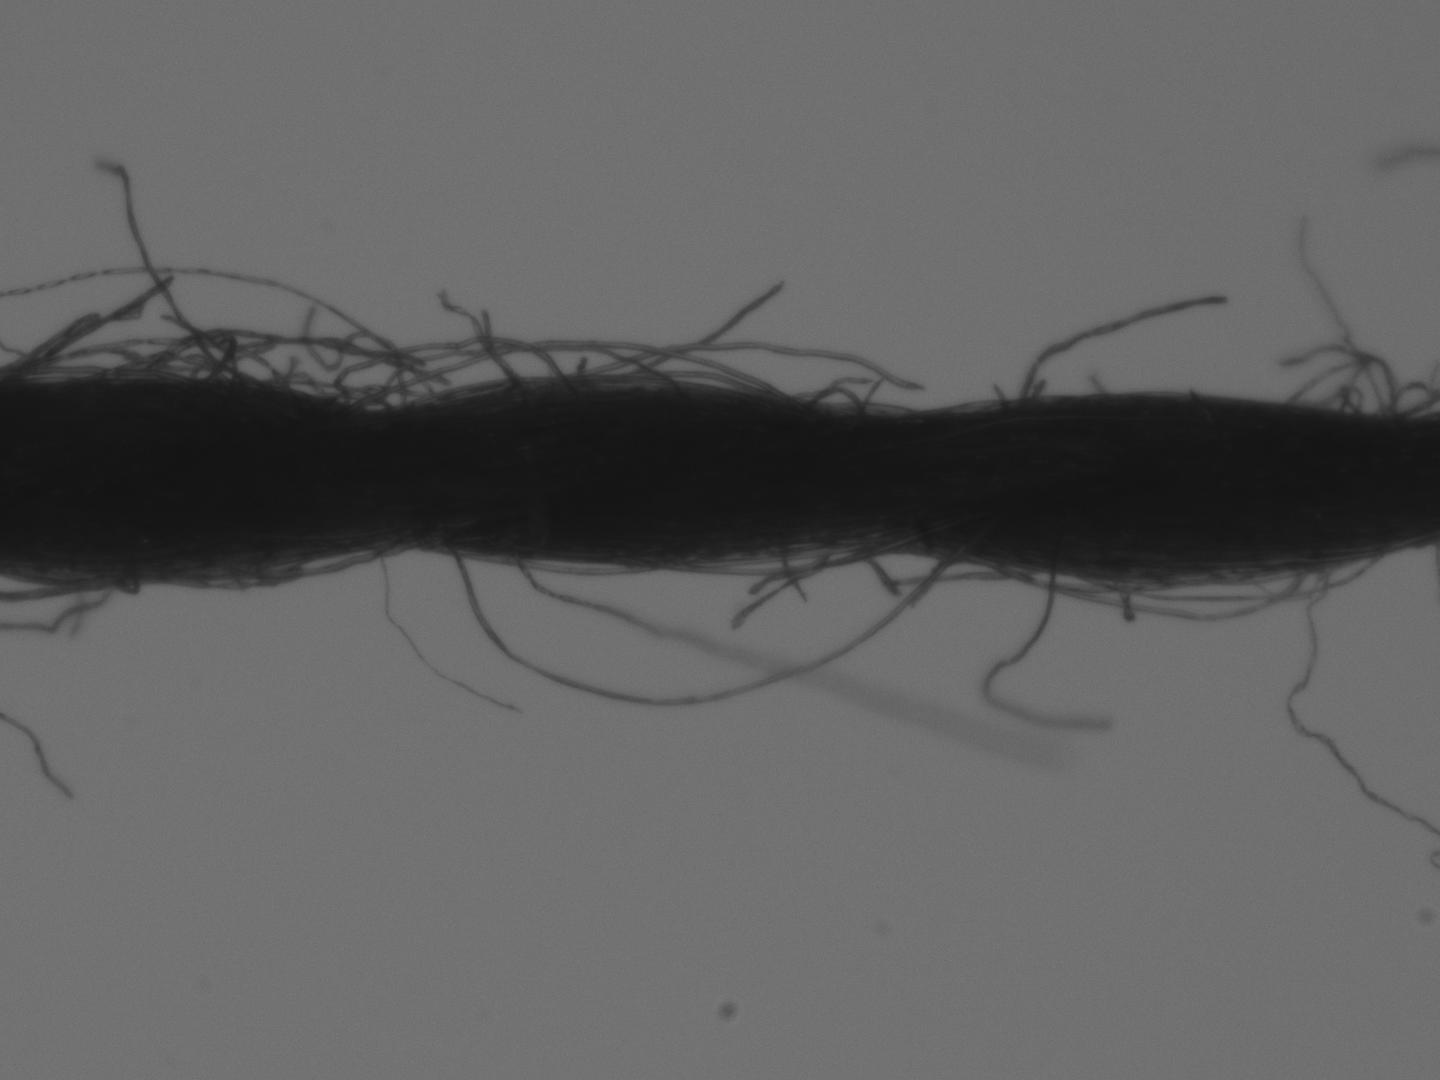loop_fiber: (946, 546, 1395, 631), (332, 334, 693, 417), (7, 330, 306, 402), (133, 539, 429, 596), (1279, 341, 1439, 423), (778, 383, 873, 434)
protruding_fiber: (1010, 287, 1240, 412)
